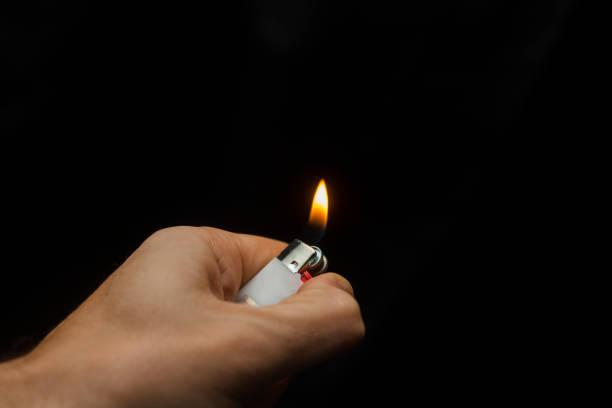Fire: (308, 174, 330, 246)
